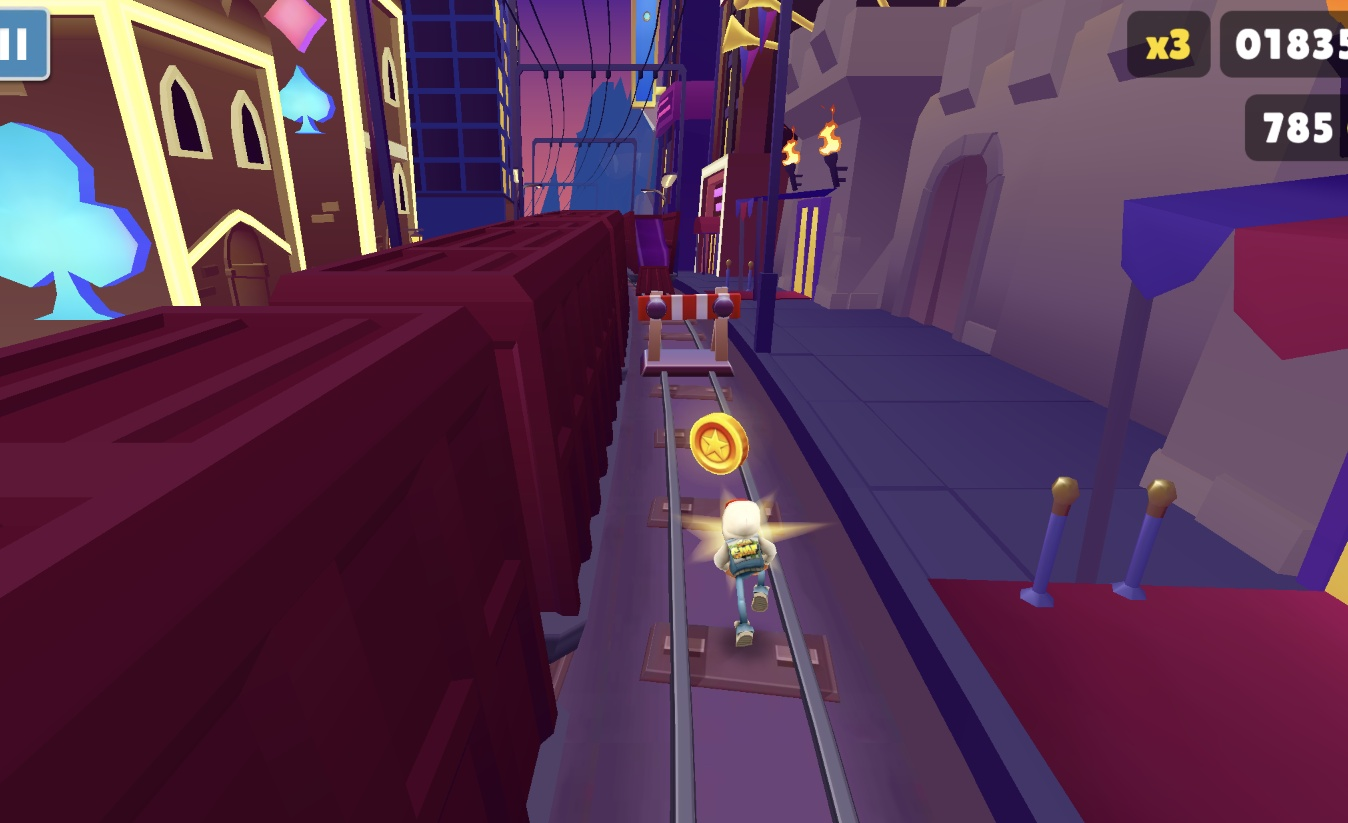ground_barrier: (638, 286, 742, 377)
train: (0, 210, 632, 823), (627, 210, 678, 295)
